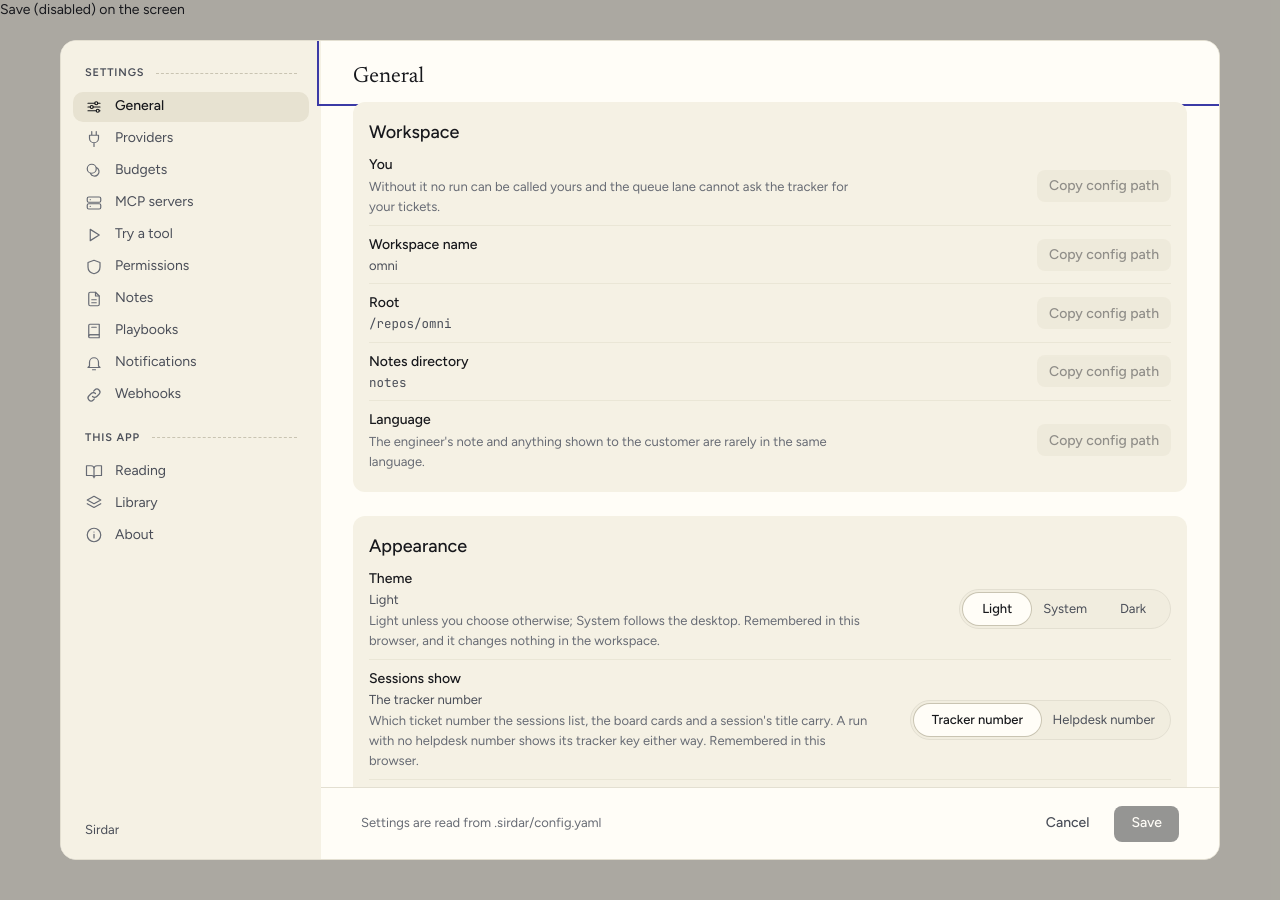
Test case: General › switches the theme live and remembers it
Click the radio button labelled "Dark" at (1133, 610), box [1099,594,1167,626]
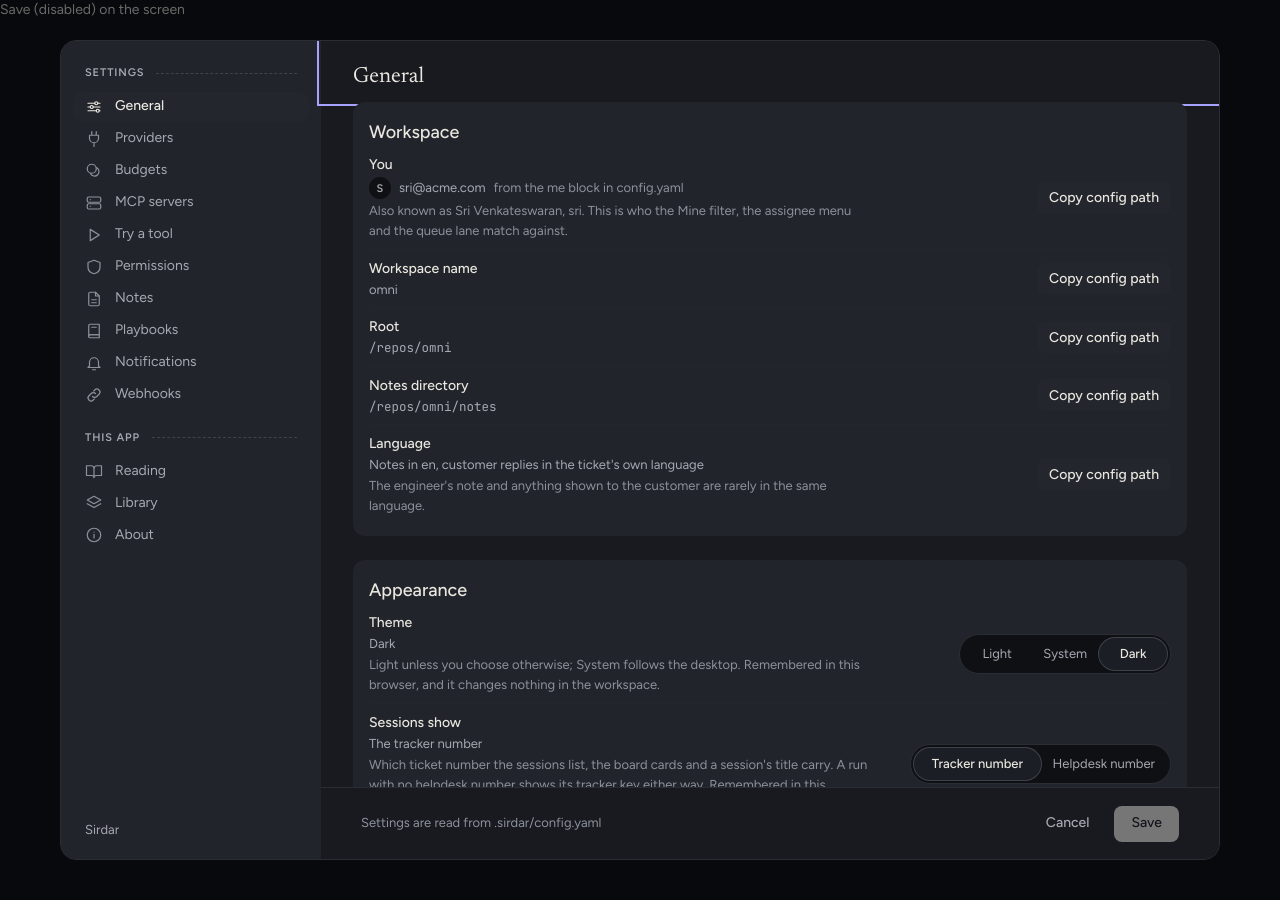
expect the text "Dark" is shown: met, box [369,636,395,651]
